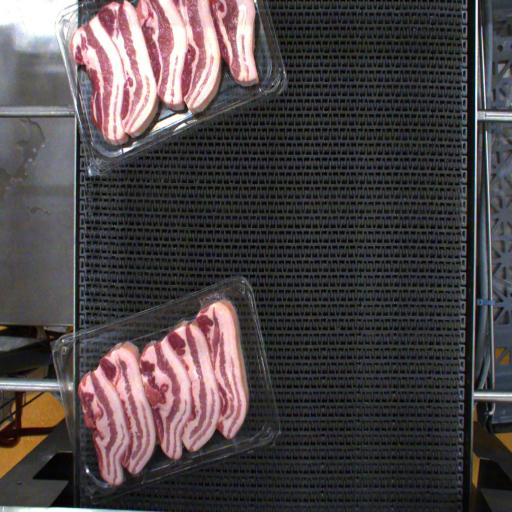packaging-error: (191, 282, 235, 310)
